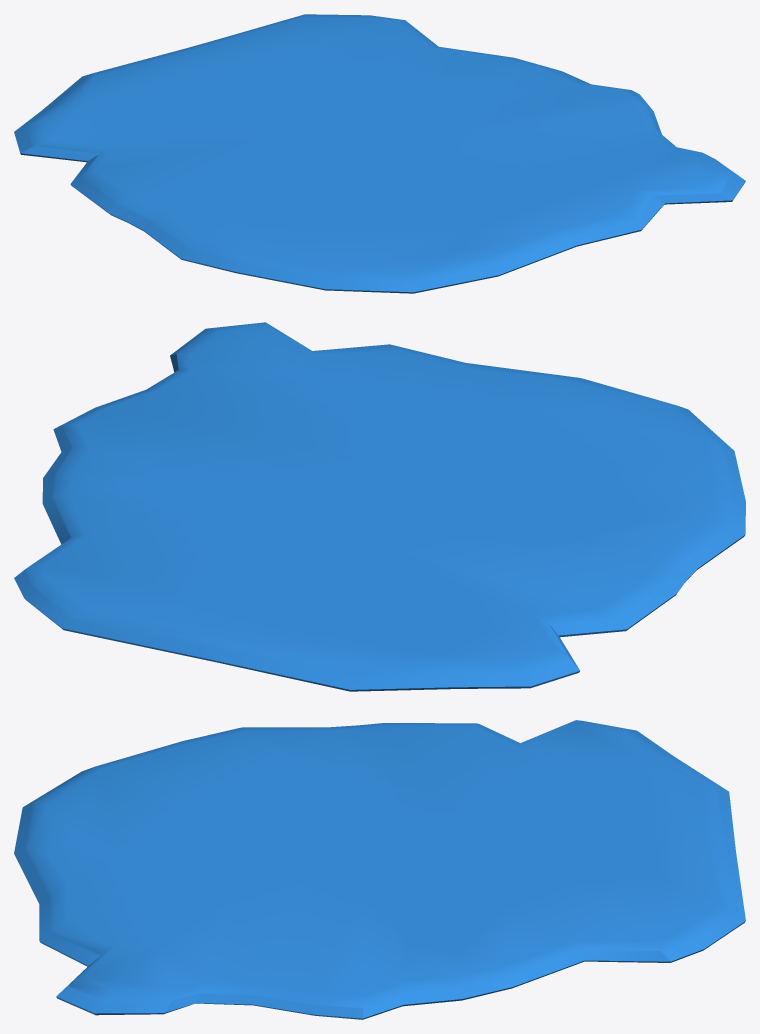
The model's file is water2.fbx.
The picture shows the model from 3 angles, top to bottom: view 1: azimuth 30°, elevation 25°; view 2: azimuth 150°, elevation 25°; view 3: azimuth 270°, elevation 25°; orthographic projection. The views are drawn at different scales.
Visible parts, largest first — view 1: Plane; view 2: Plane; view 3: Plane.
Boxes of the visible parts, bbox=[...] form: Plane: bbox=[14, 14, 745, 293]; Plane: bbox=[14, 322, 745, 691]; Plane: bbox=[14, 720, 745, 1019].
Size of the model in its own units: 266 by 5.35 by 276.
